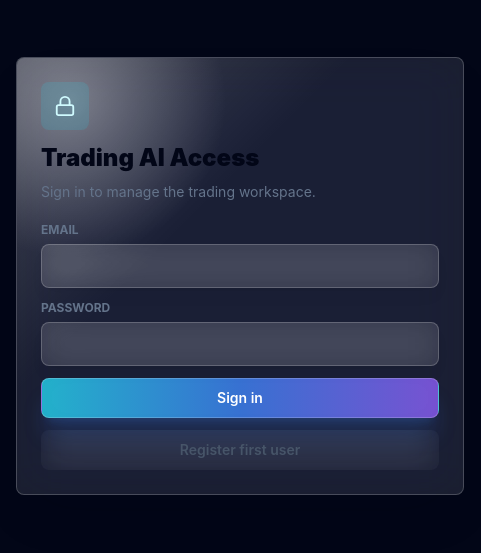
it: LoginPage › surfaces API errors during login
Type "admin@example.com" into the field labelled "Email".
click(240, 266); type("admin@example.com")  # box [41,244,439,288]
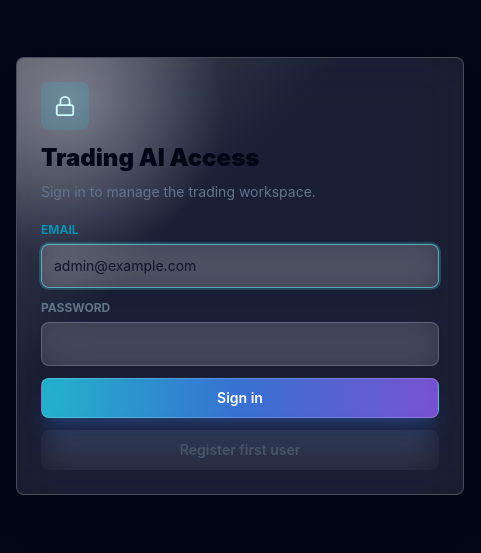
Type "wrong-password" into the password field labelled "Password".
click(240, 344); type("wrong-password")  # box [41,322,439,366]
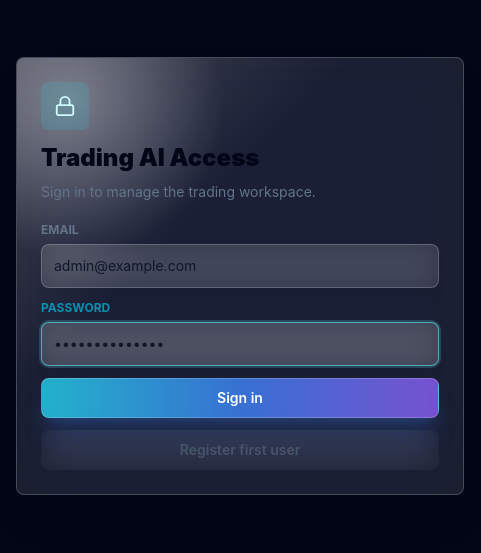
Click the button "Sign in".
click(240, 398)  # box [41,378,439,418]
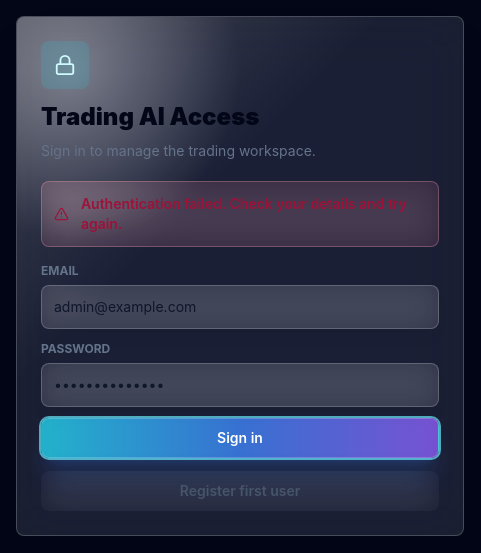
Expected: the text "Authentication failed. Check your details and try again." is shown, [41,181,439,247]
